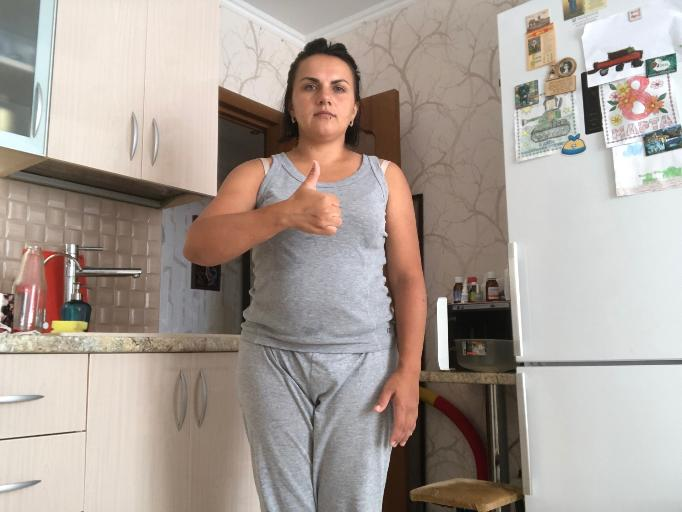like: (288, 157, 343, 239)
no_gesture: (372, 366, 423, 450)
